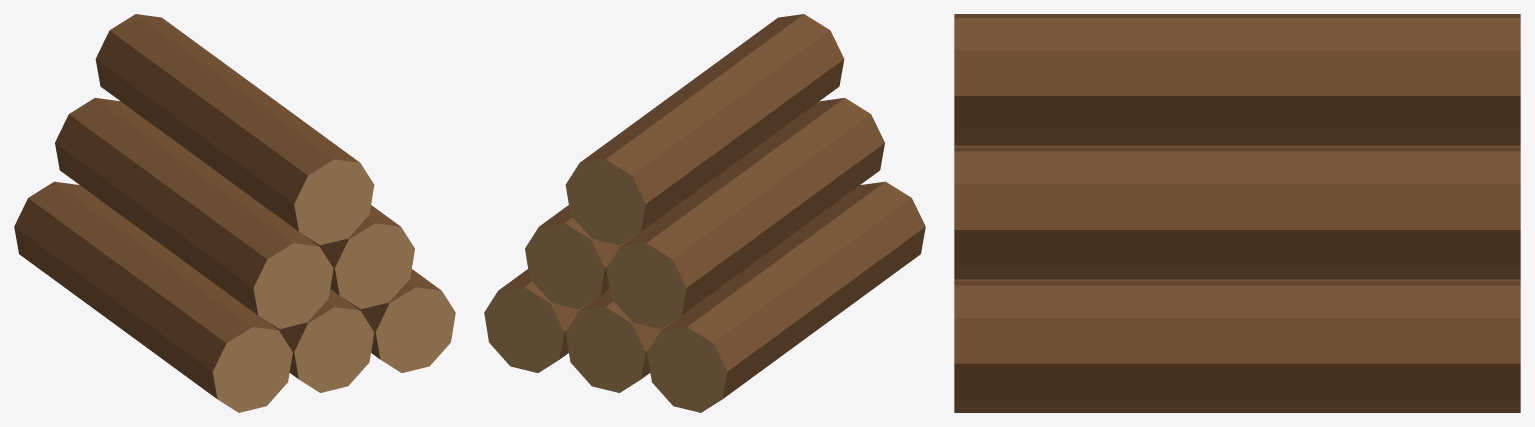
The model's file is firewood-stack.glb.
3 views of the same model, side by side, from view 1: azimuth 30°, elevation 25°; view 2: azimuth 150°, elevation 25°; view 3: azimuth 270°, elevation 25° (orthographic). The views are drawn at different scales.
Visible parts, largest first — view 1: Cut firewood log 3-1, Cut firewood log 1-1, Cut firewood log 2-1, Cut firewood log 1-3, Cut firewood log 2-2, Cut firewood log 1-2; view 2: Cut firewood log 3-1, Cut firewood log 1-1, Cut firewood log 2-1, Cut firewood log 1-3, Cut firewood log 2-2, Cut firewood log 1-2; view 3: Cut firewood log 2-2, Cut firewood log 1-3, Cut firewood log 3-1, Cut firewood log 1-2, Cut firewood log 2-1.
Part boxes in pixels (box(x1,y1,x2,y2)): Cut firewood log 3-1: box(95, 14, 374, 245); Cut firewood log 1-1: box(14, 181, 292, 412); Cut firewood log 2-1: box(55, 98, 333, 328); Cut firewood log 1-3: box(345, 269, 455, 372); Cut firewood log 2-2: box(303, 205, 414, 309); Cut firewood log 1-2: box(264, 289, 374, 392); Cut firewood log 3-1: box(565, 14, 844, 245); Cut firewood log 1-1: box(647, 181, 925, 412); Cut firewood log 2-1: box(606, 98, 884, 328); Cut firewood log 1-3: box(484, 269, 594, 372); Cut firewood log 2-2: box(525, 205, 636, 309); Cut firewood log 1-2: box(565, 289, 675, 392); Cut firewood log 2-2: box(954, 147, 1520, 279); Cut firewood log 1-3: box(954, 281, 1520, 412); Cut firewood log 3-1: box(954, 14, 1520, 145); Cut firewood log 1-2: box(954, 279, 1520, 281); Cut firewood log 2-1: box(954, 145, 1520, 147).
Size of the model in its own units: 0.2686 by 0.2433 by 0.38.
